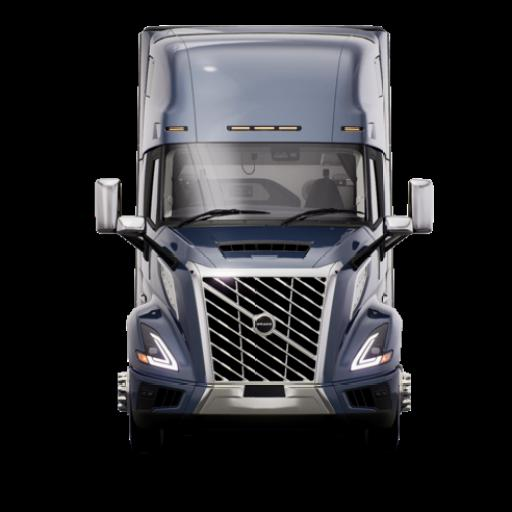truck: (91, 21, 438, 457)
